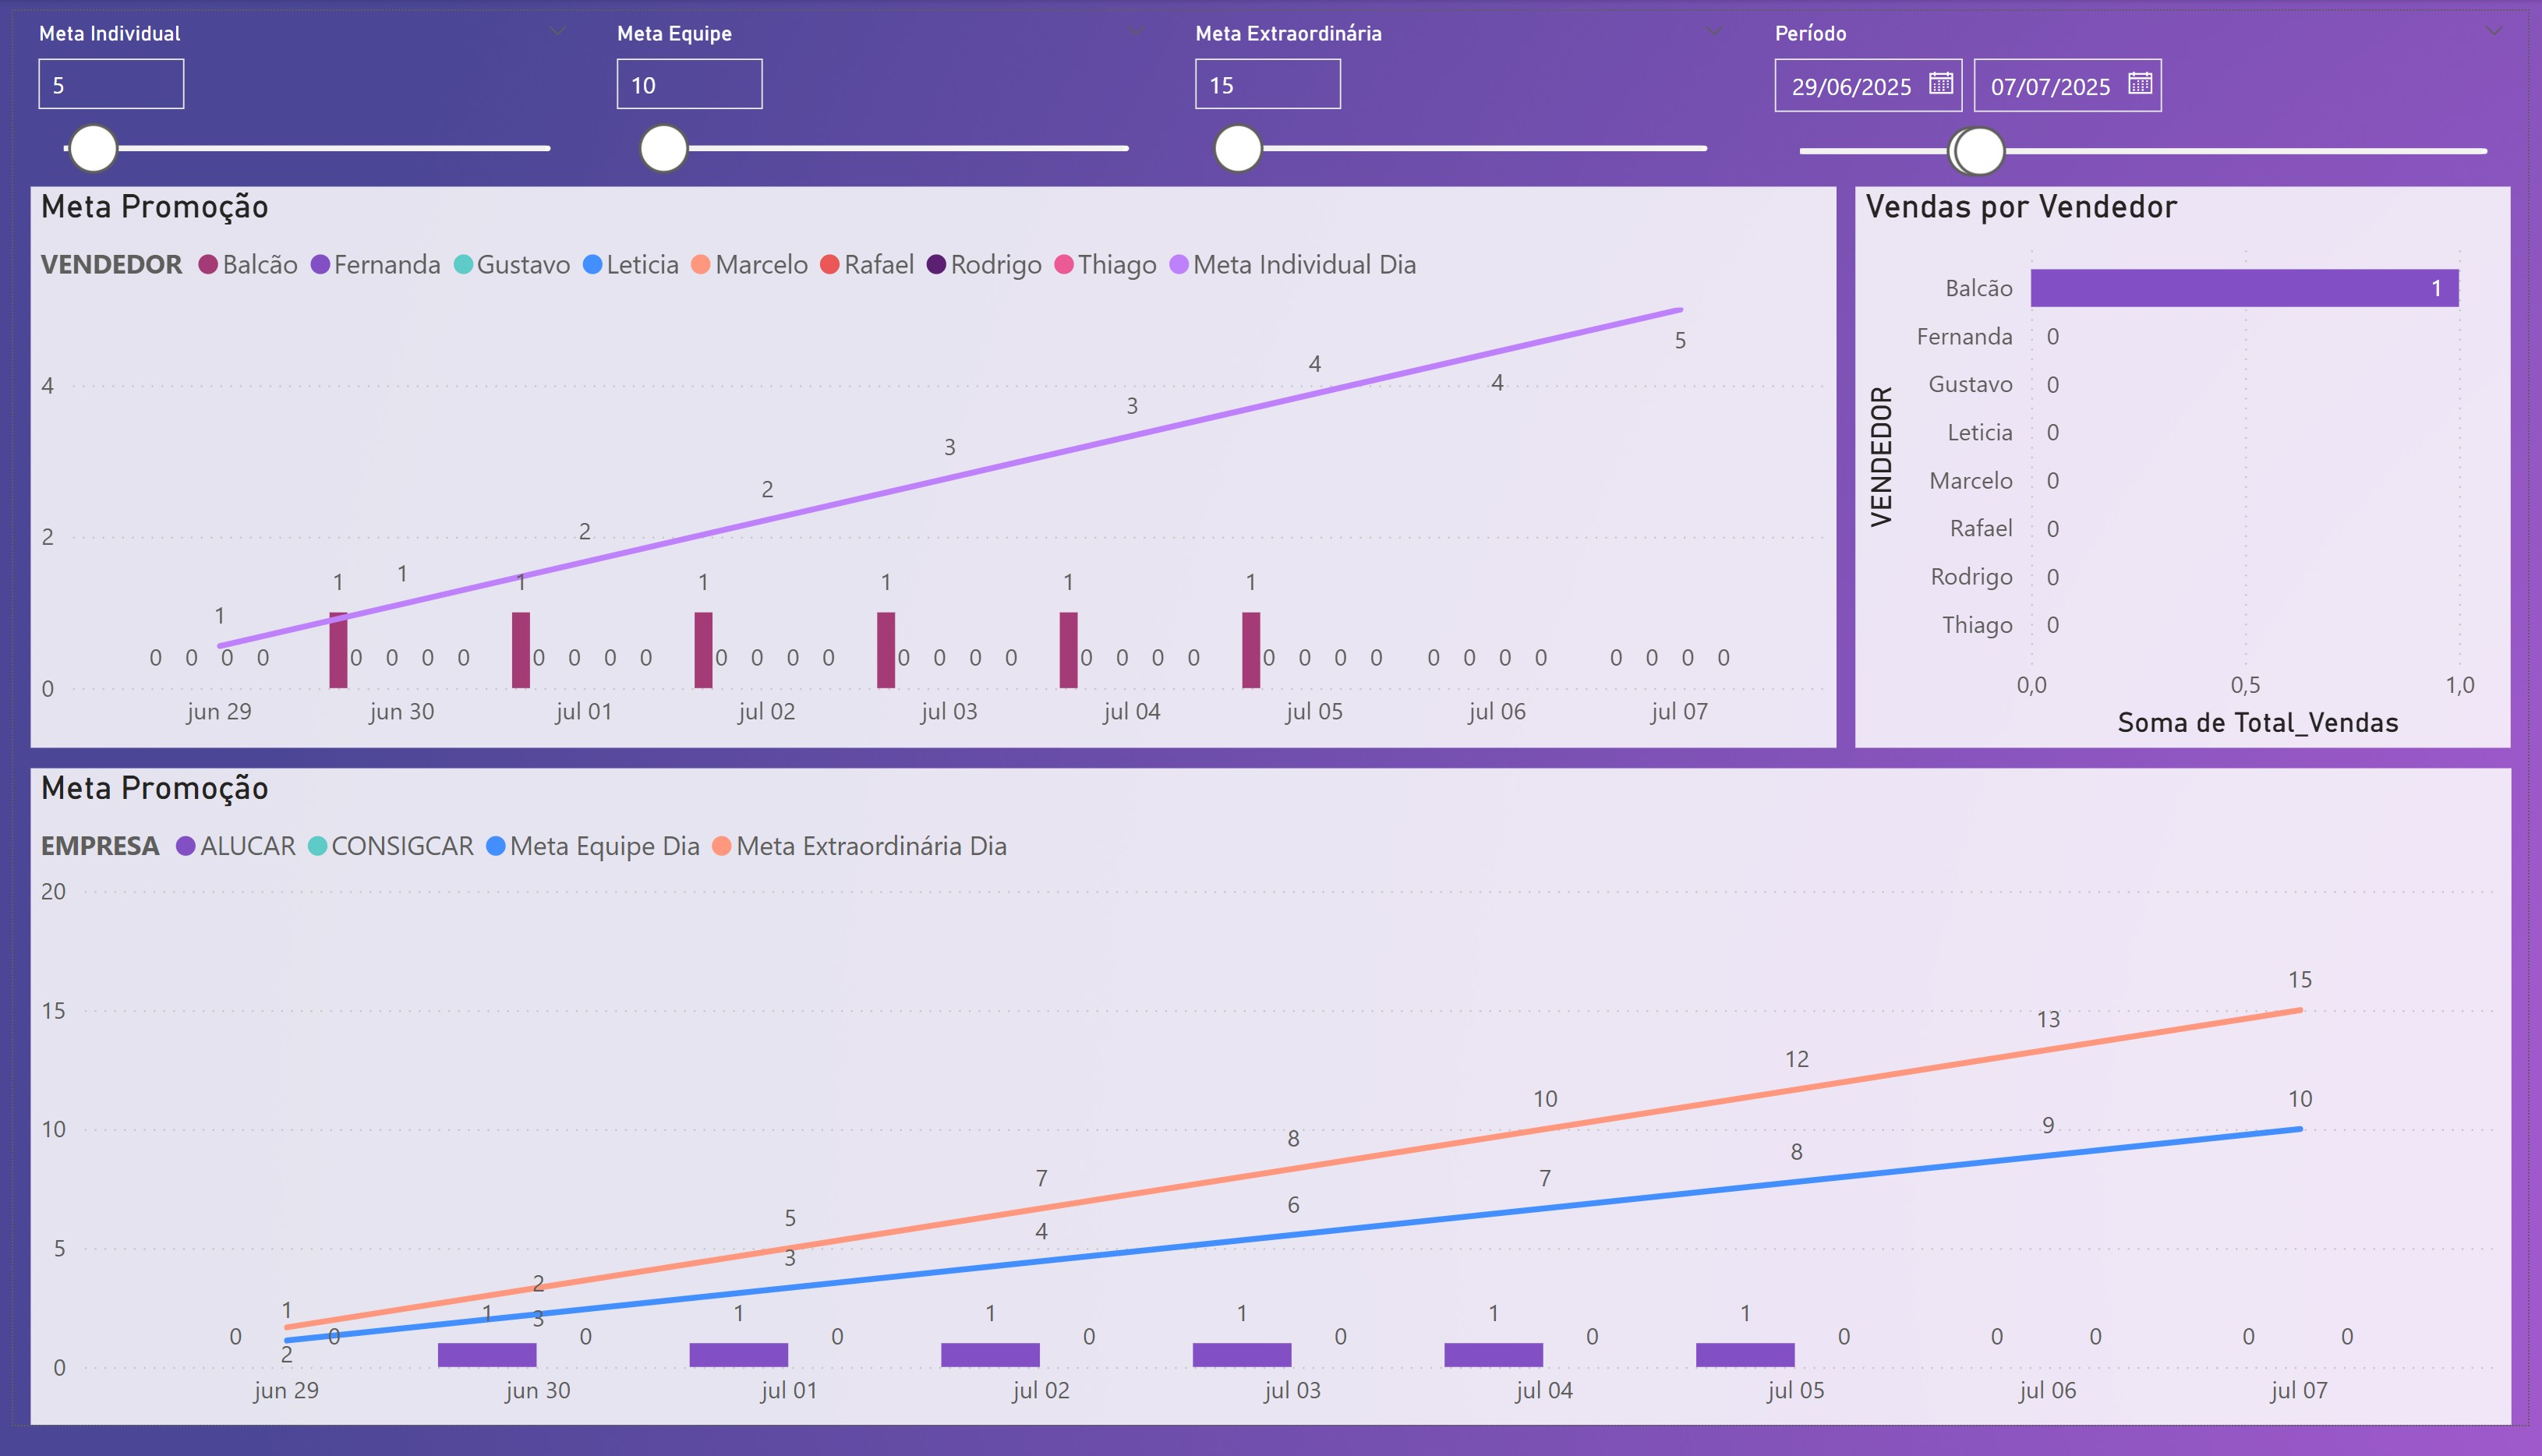

Layout of this report page (visuals, bound fields, positions):
{"tool":"powerbi","page":{"name":"Promoção","canvas":[1280,720],"ordinal":3},"visuals":[{"type":"slicer","fields":{"Values":["dCalendario.Date"]},"box":[883.7,0,396.6,95],"z":0},{"type":"slicer","fields":{"Values":["Meta Individual.Meta Individual"]},"box":[0,0,294.6,96.7],"z":1000},{"type":"slicer","fields":{"Values":["Meta Equipe.Meta Equipe"]},"box":[294.6,0,294.6,98.5],"z":2000},{"type":"slicer","fields":{"Values":["Meta Extraordinária.Meta Extraordinária"]},"box":[589.1,0,294.6,99.4],"z":3000},{"type":"clusteredBarChart","title":"Vendas por Vendedor","fields":{"Category":["vendendor_mensal.VENDEDOR"],"Y":["Sum(vendendor_mensal.Total_Vendas)"]},"box":[937.6,89.3,333.9,285.4],"z":4000},{"type":"lineClusteredColumnComboChart","title":"Meta Equipe","fields":{"Category":["dCalendario.DiaMes"],"Series":["empresas.EMPRESA"],"Y2":["_medidas._Promocao_Meta a Atingir Dia","_medidas._Promocao_MetaExtraordinaria Dia"],"Y":["_medidas._Promocao_Vendas Incrementais"]},"box":[8.7,385.3,1262.8,334.9],"z":5000},{"type":"lineClusteredColumnComboChart","title":"Meta Individual","fields":{"Category":["dCalendario.DiaMes"],"Y":["_medidas._Promocao_Vendas Incrementais"],"Series":["vendendor_mensal.VENDEDOR"],"Y2":["_medidas._Promocao_MetaIndividual Dia"]},"box":[8.7,89.3,919.2,285.4],"z":6000}]}

Visuals, with their boxes in screenshot pixels (x1, y1, x2, y2), scaled from the page's 1280x720 canvas onto the 2542x1456 screenshot:
slicer - dCalendario.Date: rect(1755, 0, 2541, 192)
slicer - Meta Individual.Meta Individual: rect(0, 0, 585, 196)
slicer - Meta Equipe.Meta Equipe: rect(585, 0, 1170, 200)
slicer - Meta Extraordinária.Meta Extraordinária: rect(1170, 0, 1755, 201)
"Vendas por Vendedor" clusteredBarChart: rect(1862, 181, 2525, 758)
"Meta Equipe" lineClusteredColumnComboChart: rect(17, 779, 2525, 1455)
"Meta Individual" lineClusteredColumnComboChart: rect(17, 181, 1843, 758)
